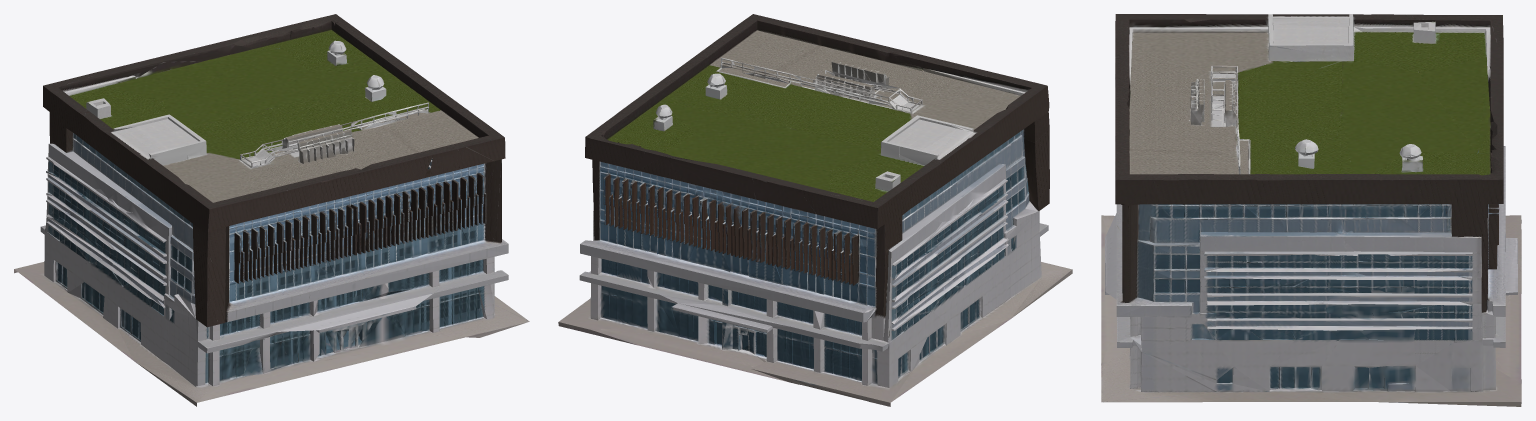
The model's file is bonkwan.glb.
The picture shows the model from 3 angles, left to right: view 1: azimuth 30°, elevation 25°; view 2: azimuth 150°, elevation 25°; view 3: azimuth 270°, elevation 25°; orthographic projection. The views are drawn at different scales.
Size of the model in its own units: 1.9 by 1.09 by 1.81.
1 material, 1 textured.
